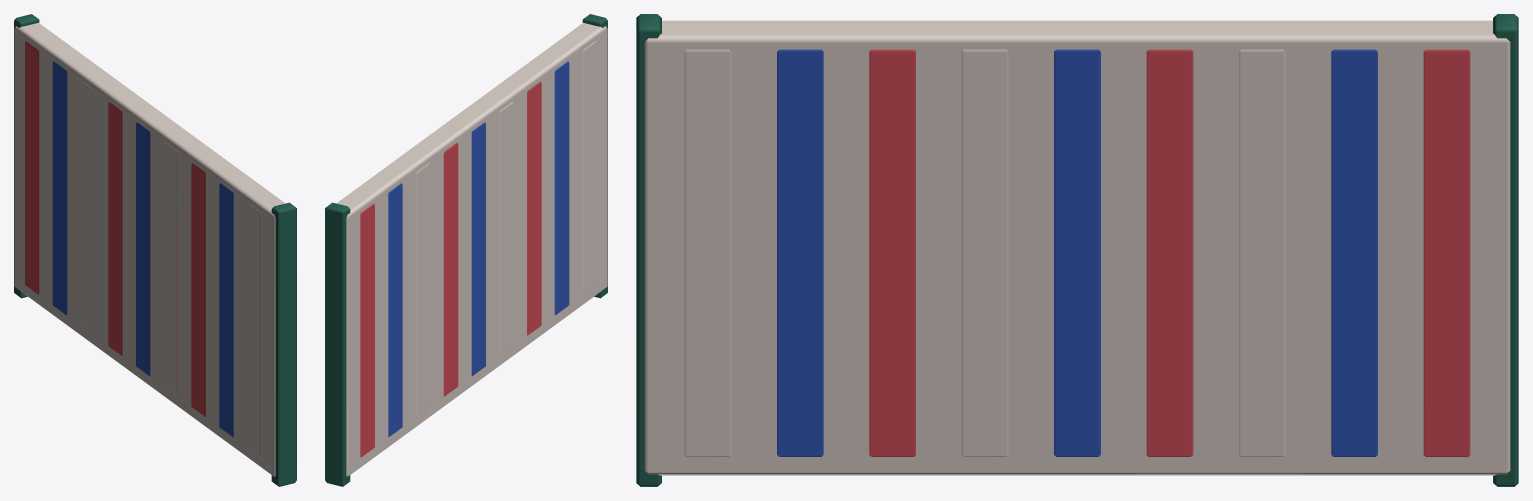
Rendered from stall_screen.glb.
3 views of the same model, side by side, from view 1: azimuth 30°, elevation 25°; view 2: azimuth 150°, elevation 25°; view 3: azimuth 270°, elevation 25° (orthographic). The views are drawn at different scales.
Visible parts, largest first — view 1: stall_screen; view 2: stall_screen; view 3: stall_screen.
Part boxes in pixels (x1,y1,x2,y2): stall_screen: (14, 14, 296, 486); stall_screen: (325, 14, 607, 486); stall_screen: (636, 14, 1518, 486).
Bounding box in the file's own units: 0.198 × 1.98 × 3.44.
